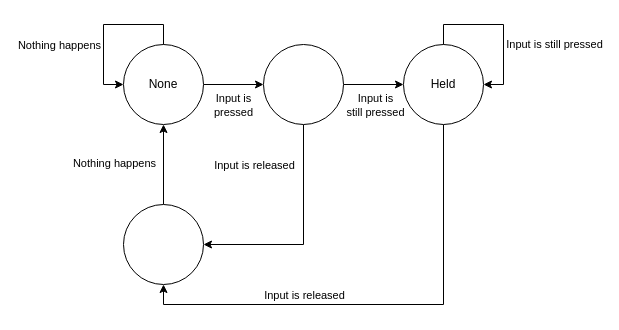
This 619x330 diagram has some shape labels left out. Each missing label, with the centre of its shape:
"Pressed" belongs at point 303,84.
"Released" belongs at point 163,244.
